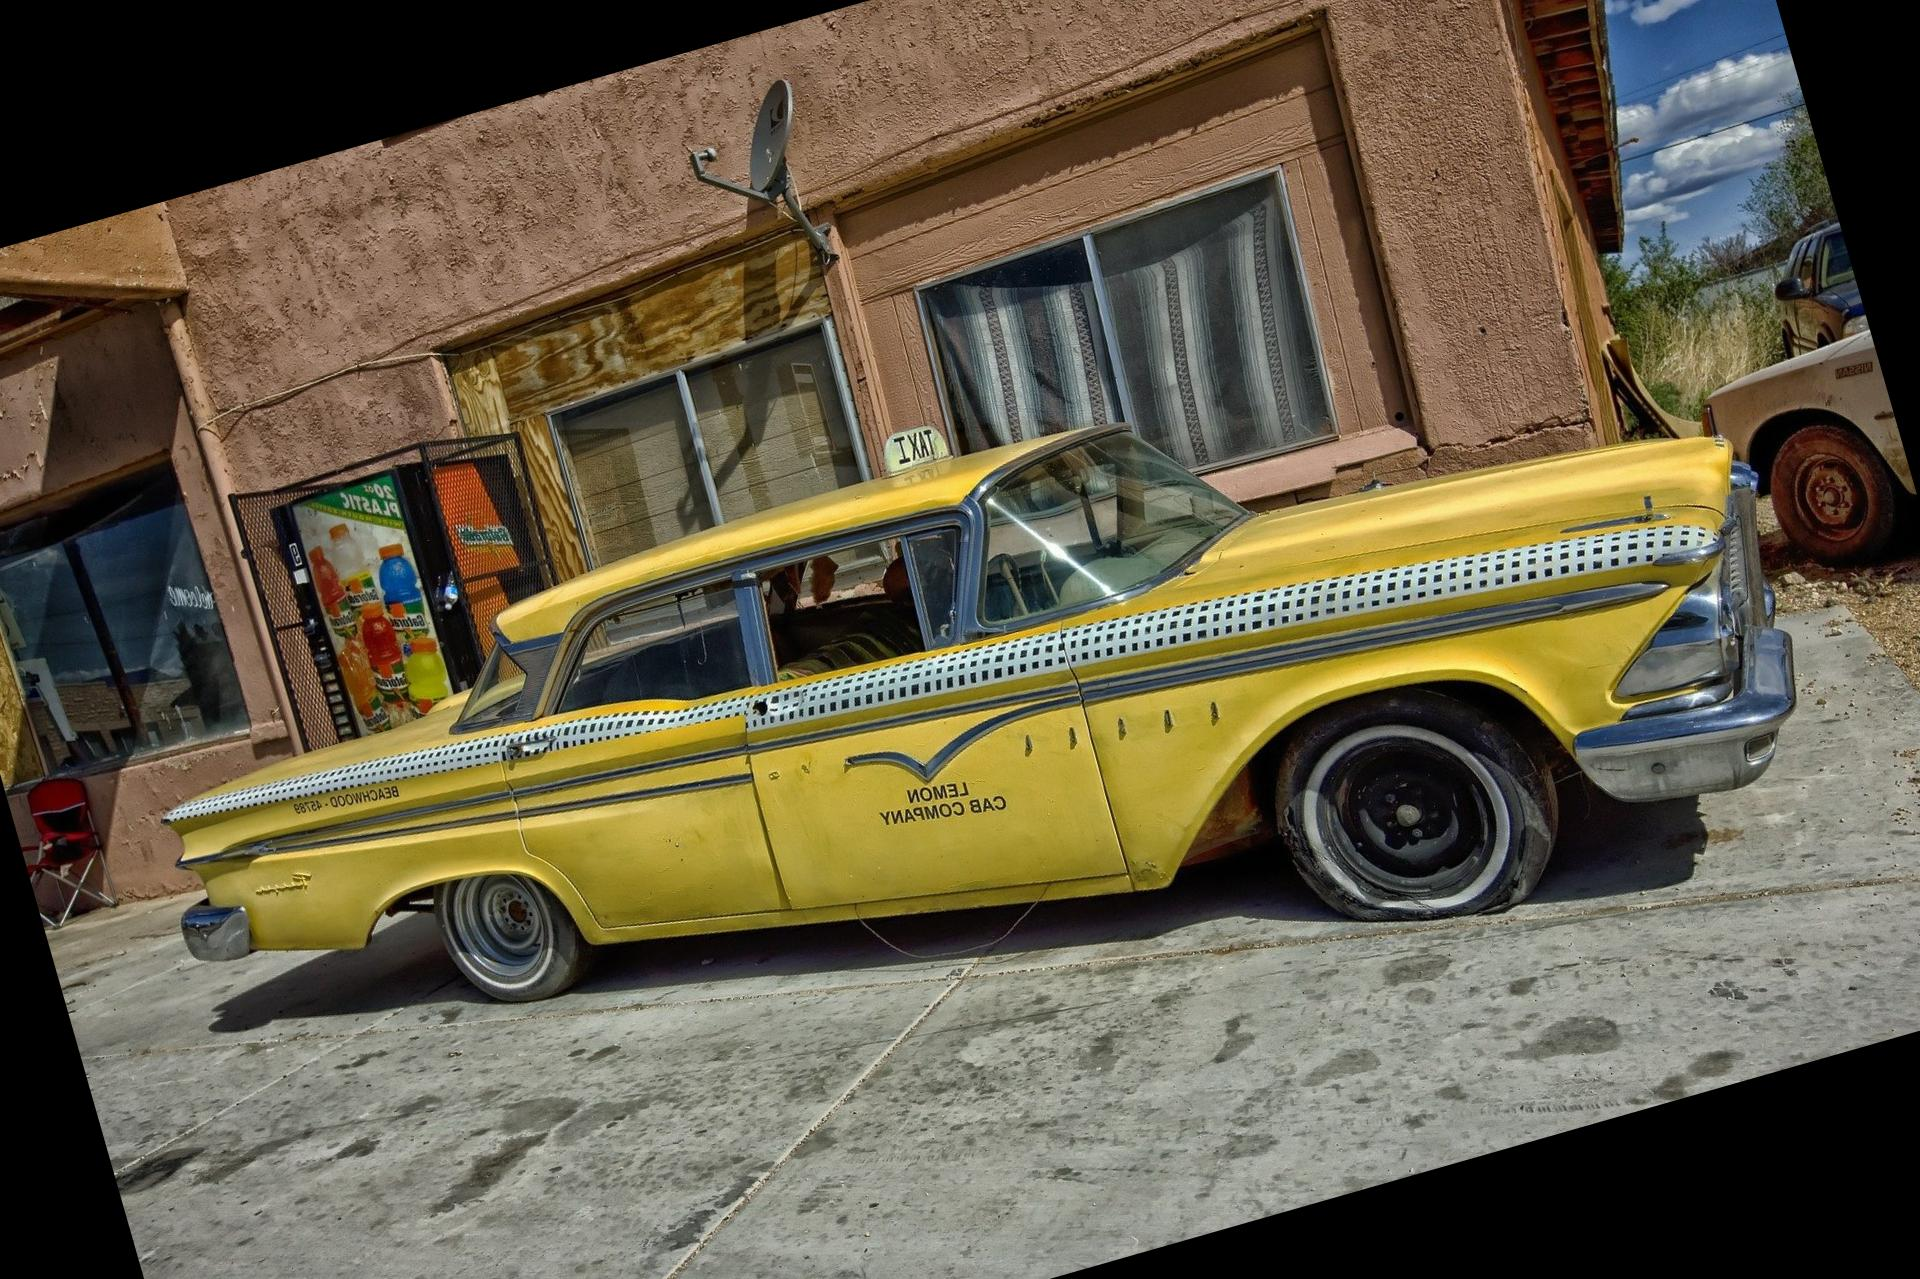taxi: (156, 403, 1820, 996)
